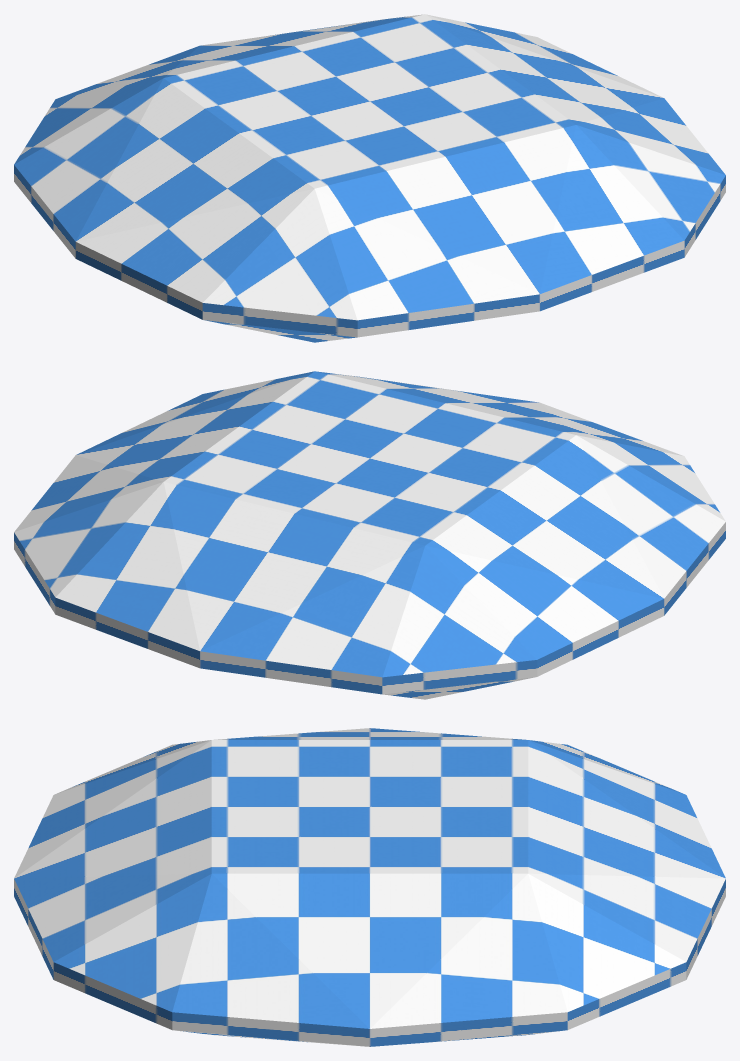
The model's file is MazarinCutDouble.FBX.
The picture shows the model from 3 angles, top to bottom: view 1: azimuth 30°, elevation 25°; view 2: azimuth 150°, elevation 25°; view 3: azimuth 270°, elevation 25°; orthographic projection. The views are drawn at different scales.
Visible parts, largest first — view 1: MazarinCutDouble; view 2: MazarinCutDouble; view 3: MazarinCutDouble.
Part boxes in pixels (x1,y1,x2,y2): MazarinCutDouble: (14, 14, 725, 342); MazarinCutDouble: (14, 371, 725, 699); MazarinCutDouble: (14, 728, 725, 1046).
Bounding box in the file's own units: 1.14 × 0.2858 × 1.14.
